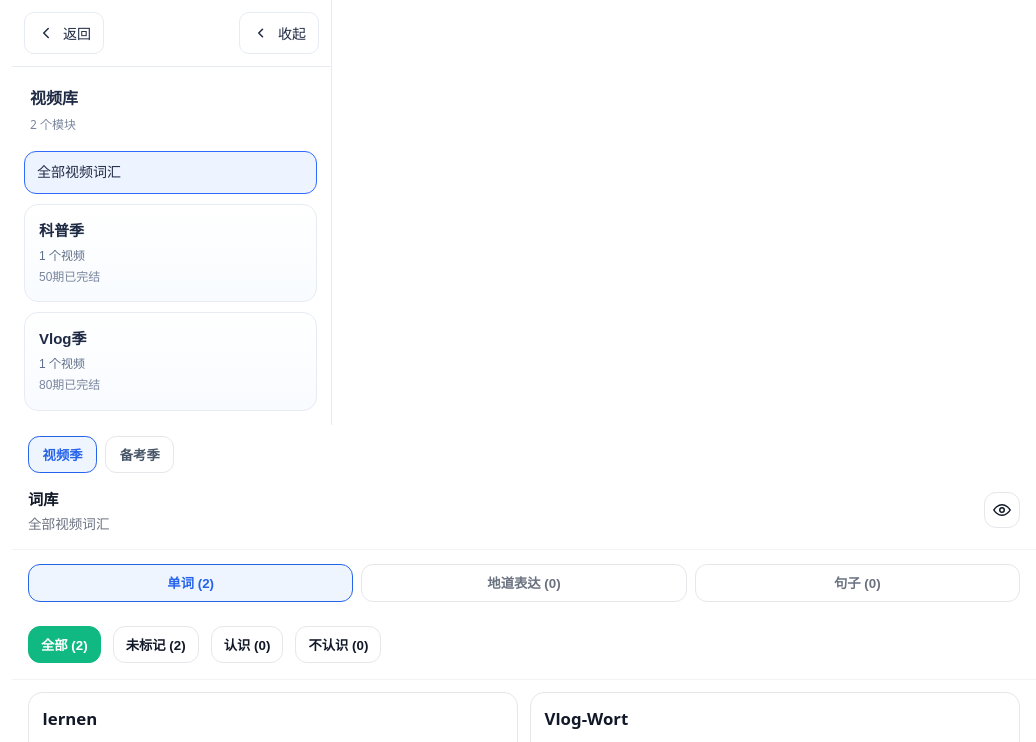
Test: LexiconPage sources › starts each source at its aggregate collection and exposes the source directory
The image size is (1036, 742).
Check: the text "lernen" is shown, box 43,707 -> 97,730
Check: the text "Vlog-Wort" is shown, box 545,707 -> 628,730
Click the button "备考季".
click(140, 455)  # box 105,436 -> 174,473
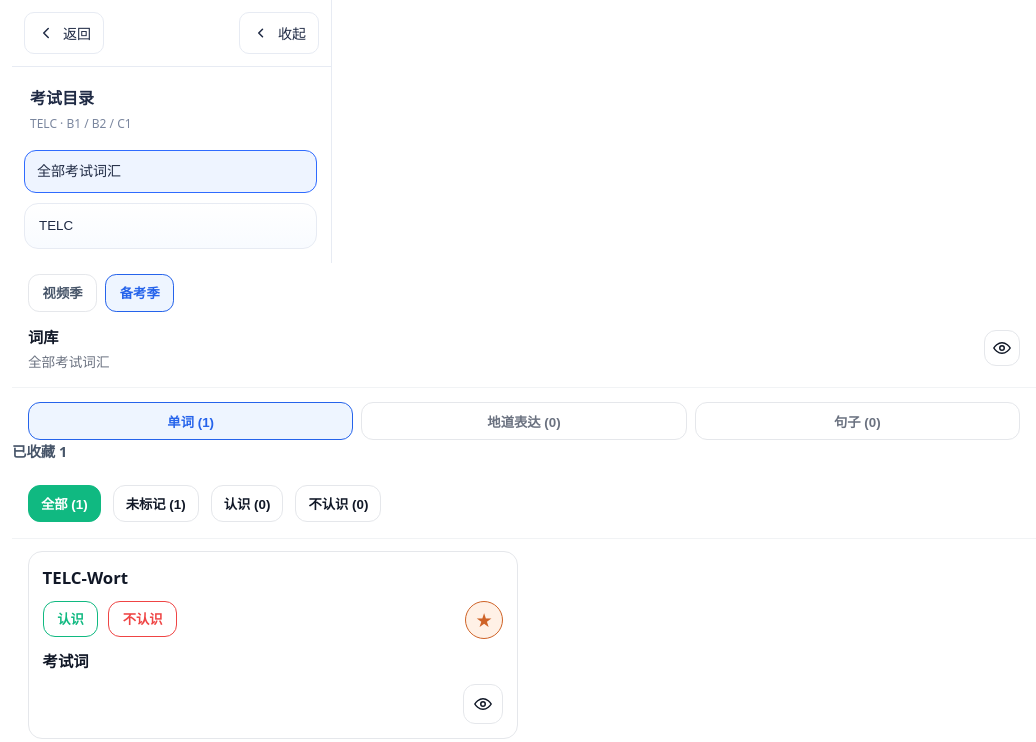
Check: the text "TELC-Wort" is shown, box 43,566 -> 128,589
Check: the button "TELC" is shown, box 24,203 -> 317,249
